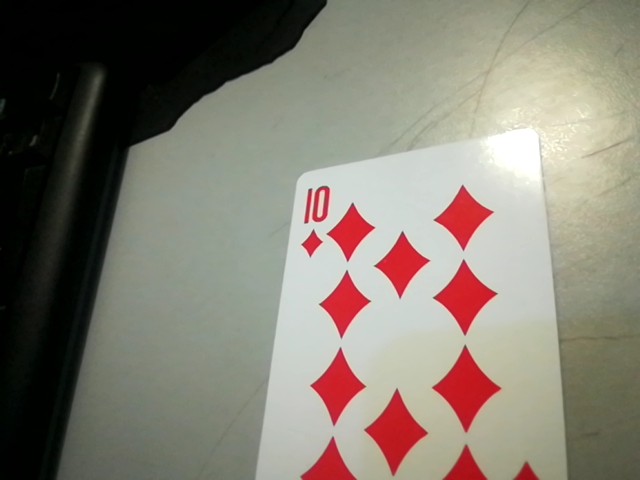fk 10: (289, 178, 338, 259)
